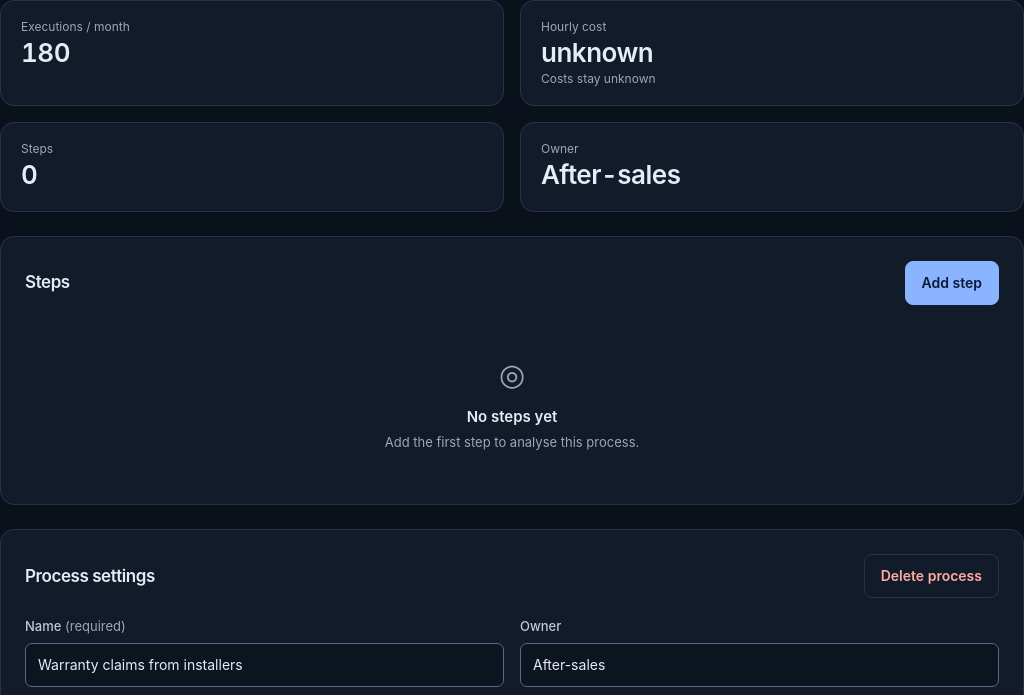
Test: the Steps tab › keeps the process when the confirmation is withdrawn
Step 1. Click the button "Delete process" → (931, 576), box [864, 554, 999, 598]
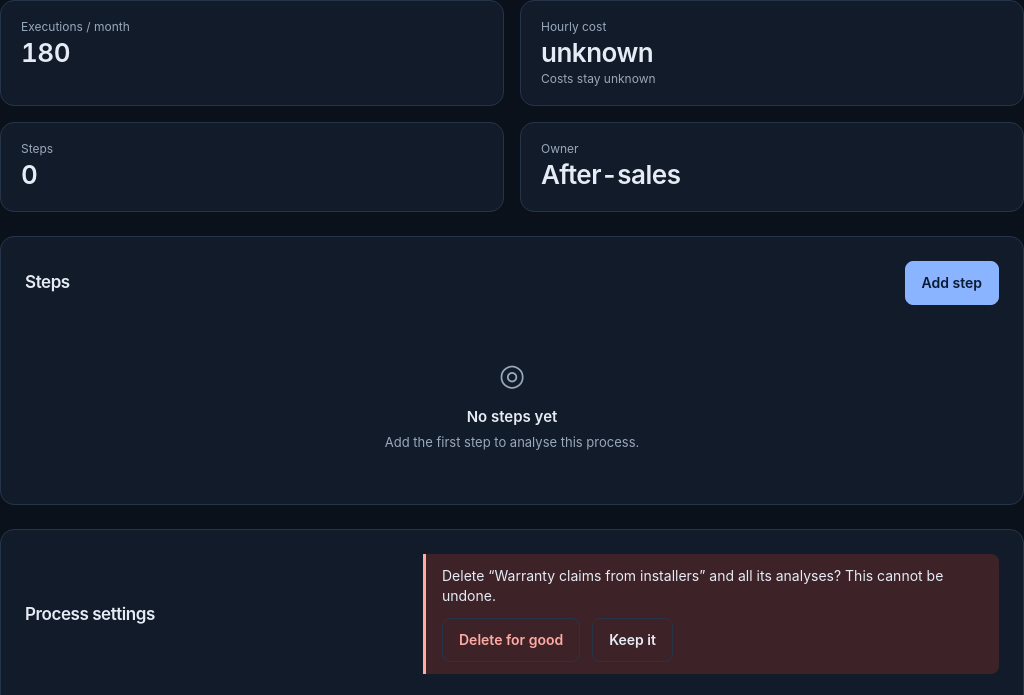
Step 2. Click the button "Keep it" → (633, 640), box [592, 618, 673, 662]
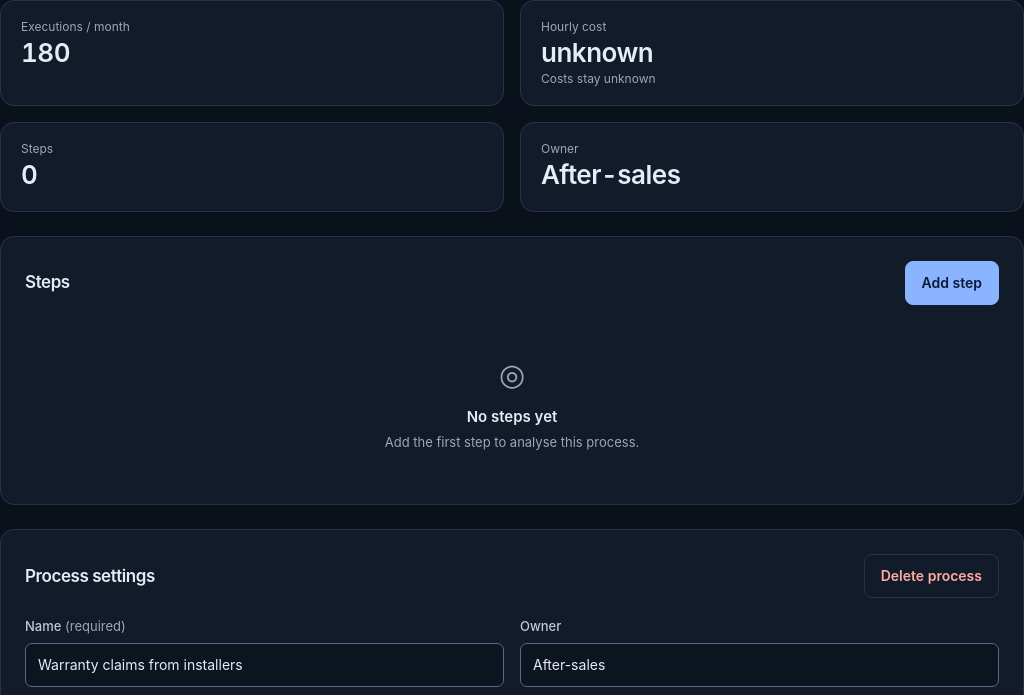
Check: the button "Delete process" is shown, box [864, 554, 999, 598]
